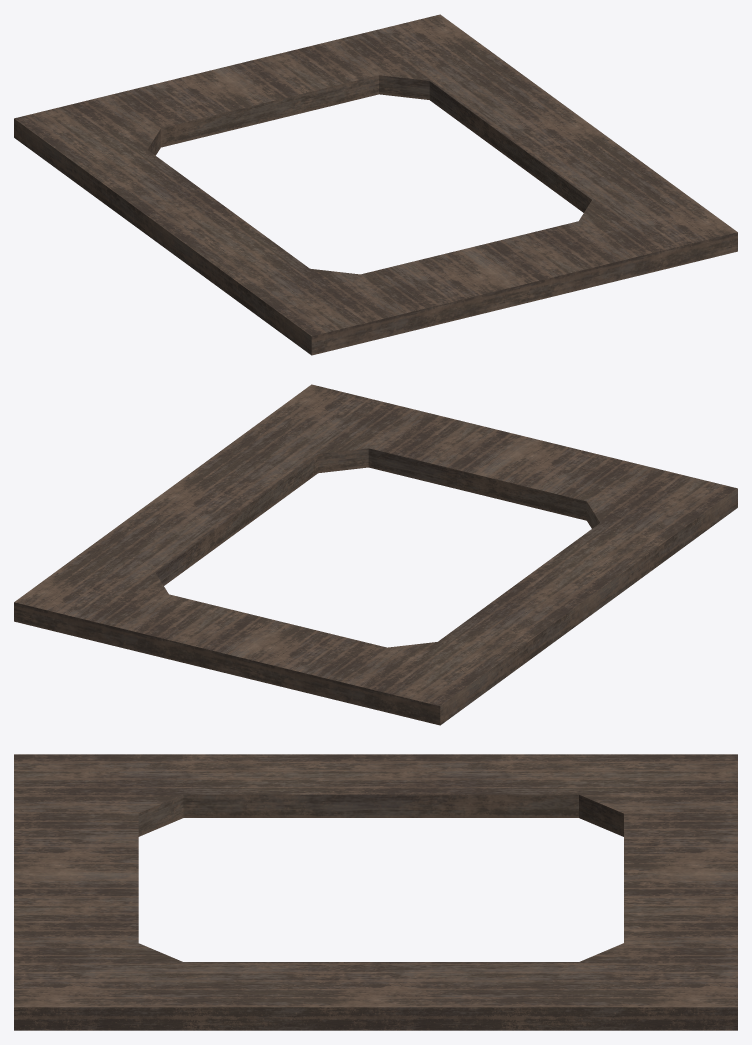
The model's file is SM_GroundPattern.fbx.
3 views of the same model, one above another, from view 1: azimuth 30°, elevation 25°; view 2: azimuth 150°, elevation 25°; view 3: azimuth 270°, elevation 25° (orthographic). The views are drawn at different scales.
Visible parts, largest first — view 1: SM_GroundPattern_LOD0; view 2: SM_GroundPattern_LOD0; view 3: SM_GroundPattern_LOD0.
Part boxes in pixels (x1,y1,x2,y2): SM_GroundPattern_LOD0: (14,14,737,355); SM_GroundPattern_LOD0: (14,384,737,725); SM_GroundPattern_LOD0: (14,754,737,1030).
Bounding box in the file's own units: 2033 × 2458 × 87.69.
